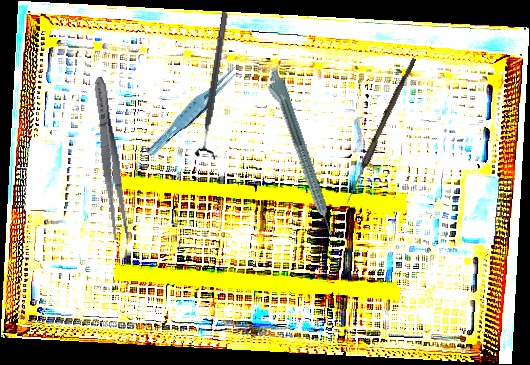Dressing Forceps: (88, 75, 133, 242)
Fixation Ring: (193, 10, 237, 160)
Handpiece: (261, 68, 338, 240)
Surgical Spoon: (343, 56, 417, 206)
Tissue Forceps: (139, 60, 252, 159)
